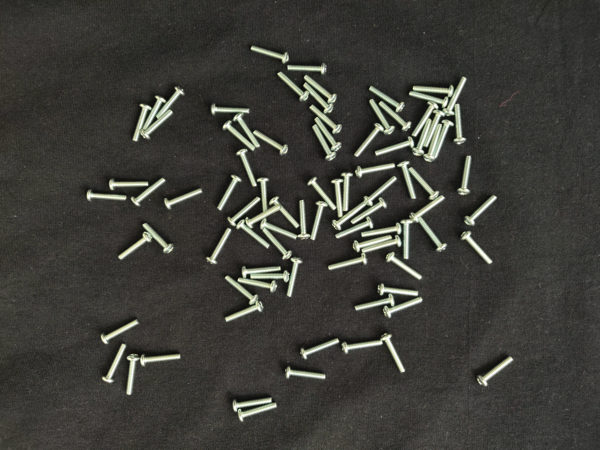longscrew: (476, 354, 515, 390), (332, 198, 370, 231), (298, 335, 343, 362), (141, 221, 176, 255), (460, 230, 494, 265), (384, 251, 425, 280), (464, 194, 500, 227), (417, 215, 448, 253), (101, 342, 128, 385), (408, 166, 441, 201), (378, 100, 413, 133), (308, 103, 344, 135), (306, 176, 338, 212), (353, 122, 385, 158), (100, 318, 141, 346), (130, 177, 167, 208), (380, 333, 407, 375), (367, 84, 406, 113), (269, 196, 302, 230), (227, 196, 262, 228), (140, 109, 175, 141), (222, 120, 257, 152), (156, 85, 187, 121), (232, 112, 262, 149), (409, 194, 447, 223), (216, 173, 244, 212), (443, 75, 469, 117), (302, 82, 335, 115), (276, 70, 310, 102), (364, 175, 399, 206), (205, 227, 232, 267), (117, 232, 153, 262), (411, 102, 440, 139), (252, 128, 290, 156), (351, 197, 389, 225), (224, 276, 259, 306), (236, 220, 271, 250), (303, 74, 338, 104), (314, 116, 343, 152), (383, 296, 426, 320), (368, 98, 395, 136), (262, 228, 293, 261), (334, 216, 376, 240), (164, 186, 204, 211), (141, 94, 167, 132), (311, 124, 337, 162), (224, 300, 265, 324), (374, 135, 415, 158), (246, 204, 283, 229), (433, 119, 455, 161), (259, 217, 299, 240), (237, 401, 278, 423), (131, 102, 153, 143), (424, 109, 447, 148), (361, 234, 403, 255), (423, 122, 444, 164), (236, 149, 258, 189), (250, 43, 290, 65), (355, 293, 396, 314), (408, 90, 450, 110), (412, 117, 433, 157), (353, 234, 394, 254), (310, 200, 329, 243), (354, 161, 397, 180), (340, 338, 385, 356), (397, 161, 417, 201), (327, 252, 369, 271), (286, 257, 305, 298), (232, 396, 274, 414), (140, 352, 182, 370), (456, 155, 474, 197), (236, 277, 279, 294), (125, 352, 141, 396), (283, 367, 329, 382), (361, 222, 403, 238), (85, 188, 128, 203), (399, 218, 414, 261), (453, 103, 468, 146), (241, 265, 283, 280), (340, 170, 355, 212), (377, 283, 421, 297), (108, 177, 150, 191), (331, 177, 345, 219), (412, 84, 457, 97), (257, 176, 271, 216), (297, 199, 310, 242), (210, 103, 252, 116), (250, 270, 291, 283), (287, 62, 328, 75)
